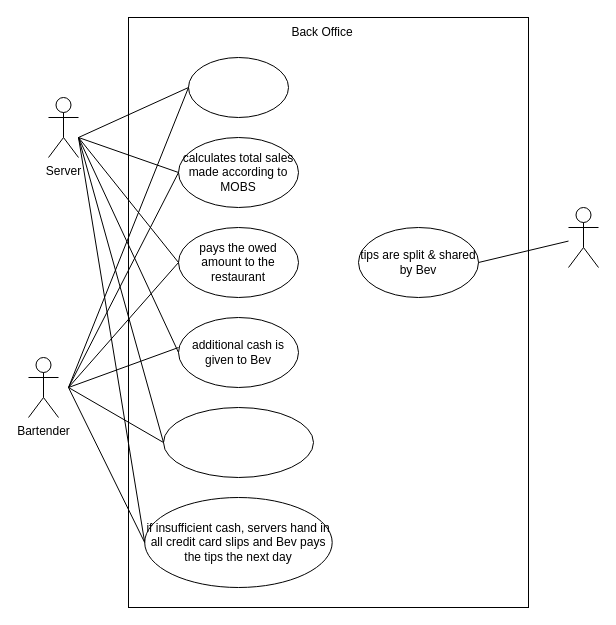
This 616x625 diagram has some shape labels left out. The box of each missing label's shape, as (x1, y1, x2, y2) in pixels:
Bev: (568, 206, 598, 268)
gathers all the cash & payment slips: (188, 56, 288, 118)
If more credit card slips than owed cash, swap slips for cash with other servers: (162, 406, 314, 478)
